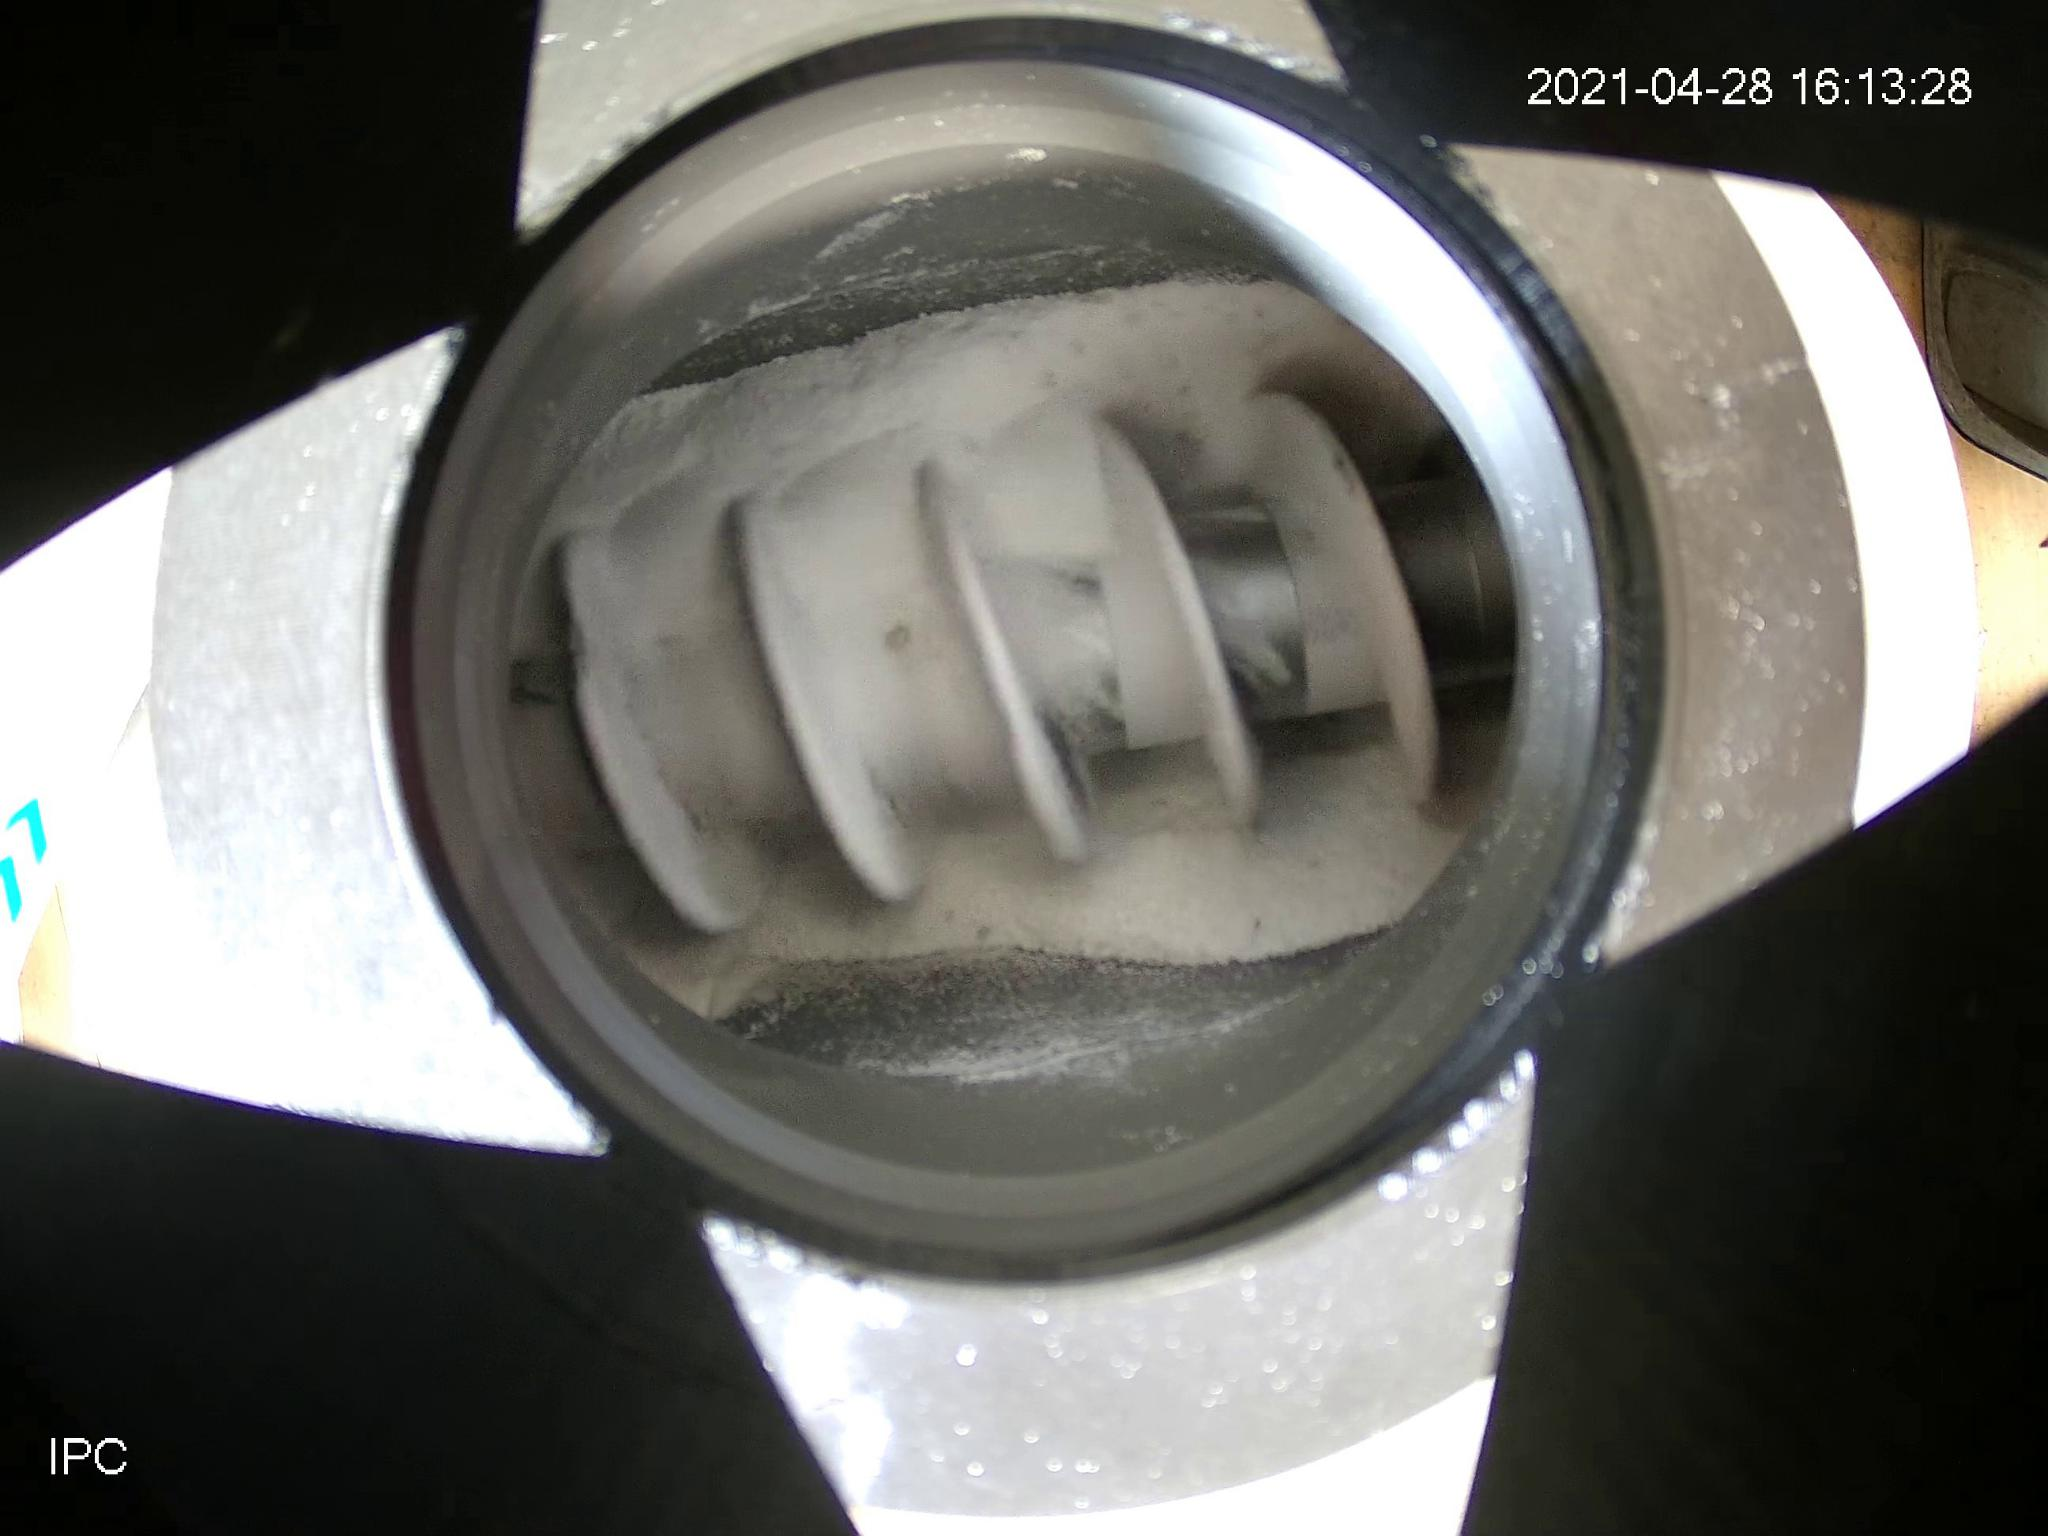stone: (882, 624, 908, 650), (956, 431, 980, 455), (1032, 369, 1055, 386), (1122, 311, 1150, 324), (1068, 339, 1085, 353), (976, 926, 989, 941), (940, 905, 948, 916)
